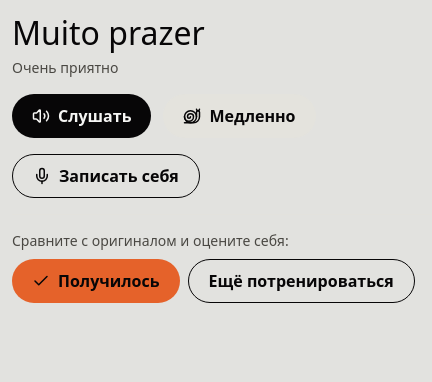
Test: SpeakShadow › with a stubbed MediaRecorder › record → stop → playback, then «Записать заново»
Click the button "Записать себя" at (106, 176), box [12,154,200,198]
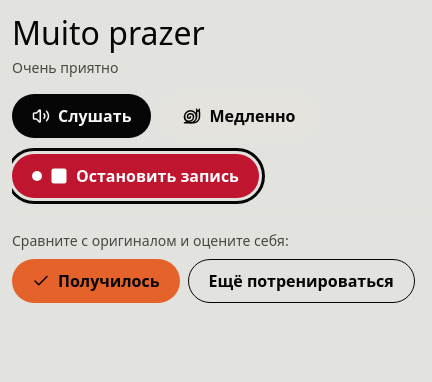
Click the button "Остановить запись" at (135, 176), box [12,154,259,198]
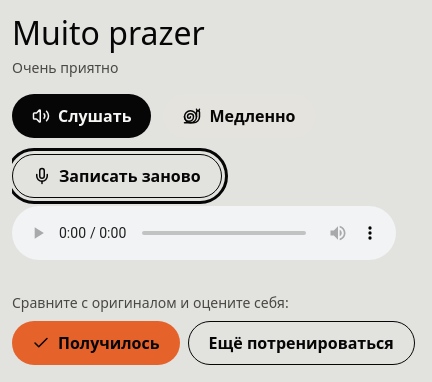
Expected: the button "Записать заново" is shown, [12,154,222,198]
